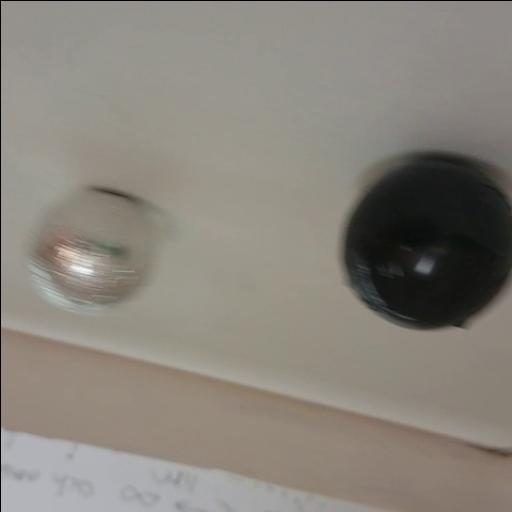alive: (27, 184, 164, 312)
dead: (340, 153, 512, 332)
